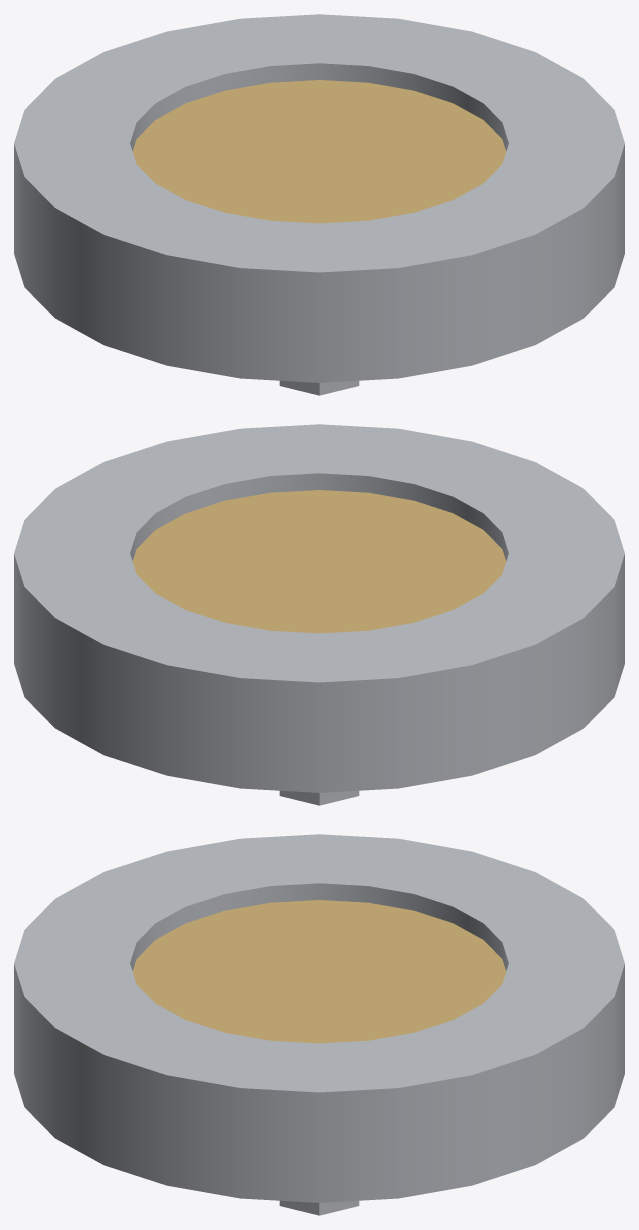
The model's file is vise.glb.
3 views of the same model, one above another, from view 1: azimuth 30°, elevation 25°; view 2: azimuth 150°, elevation 25°; view 3: azimuth 270°, elevation 25° (orthographic).
Parts seen in each view (by area): view 1: core_vise; view 2: core_vise; view 3: core_vise.
Boxes of the visible parts, box(x1,y1,x2,y2) form: core_vise: box(14, 14, 624, 395); core_vise: box(14, 424, 624, 805); core_vise: box(14, 834, 624, 1215).
Size of the model in its own units: 20 by 5.99 by 20.
